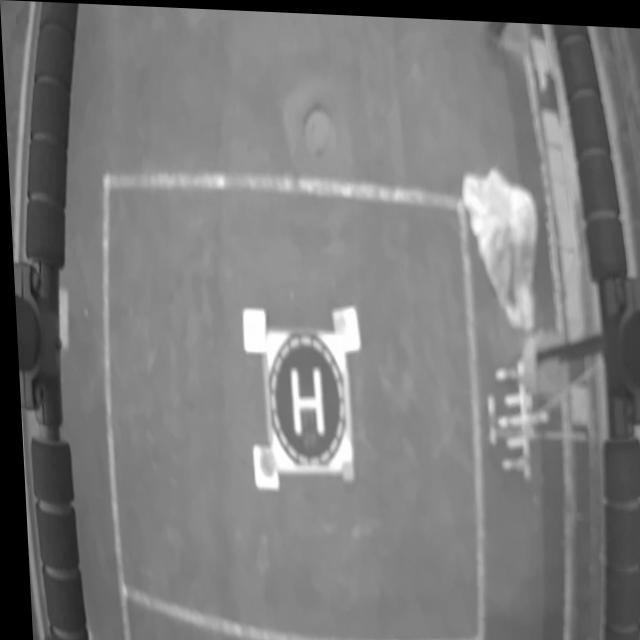Helipad: (287, 365, 319, 433)
